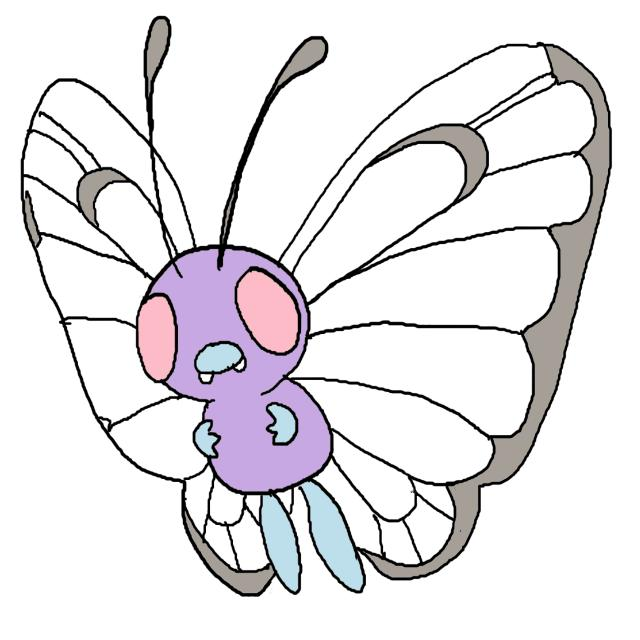Butterfree: (18, 35, 520, 598)
